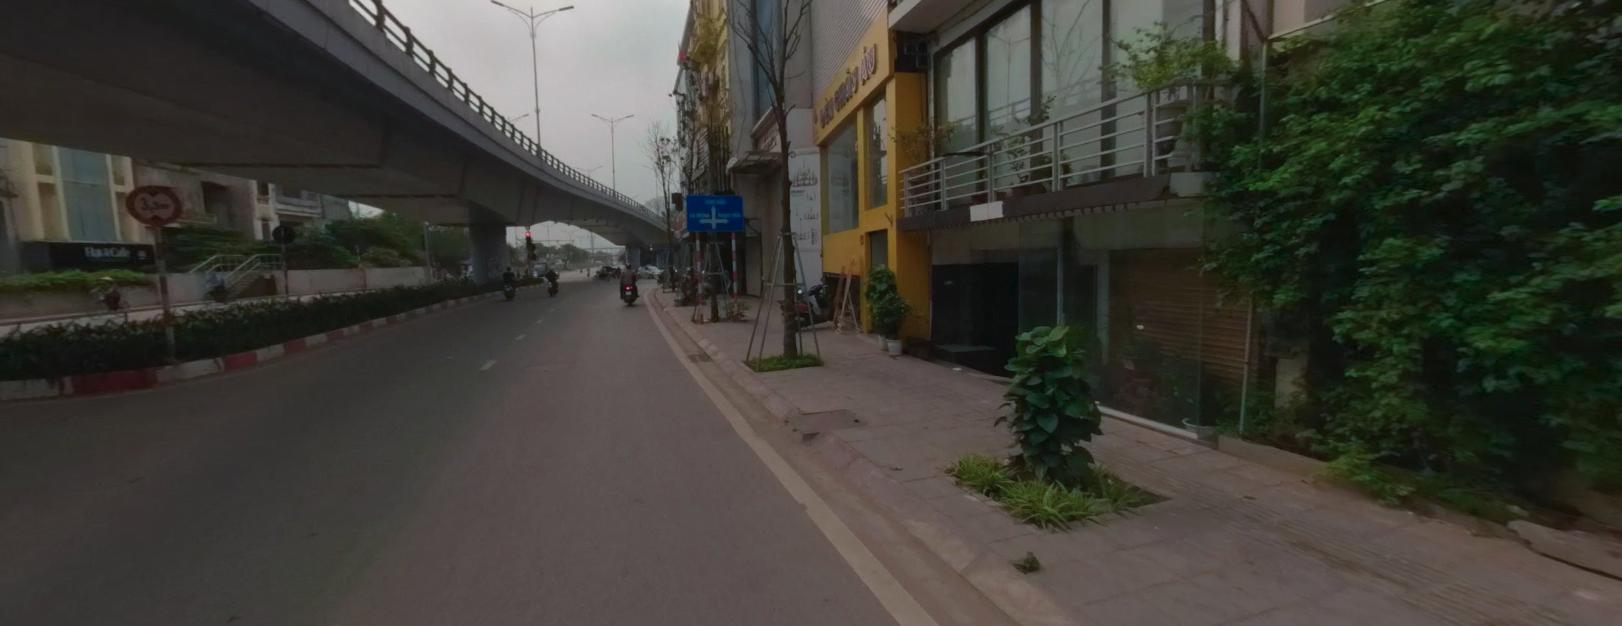Cam con lai: (124, 182, 183, 223)
